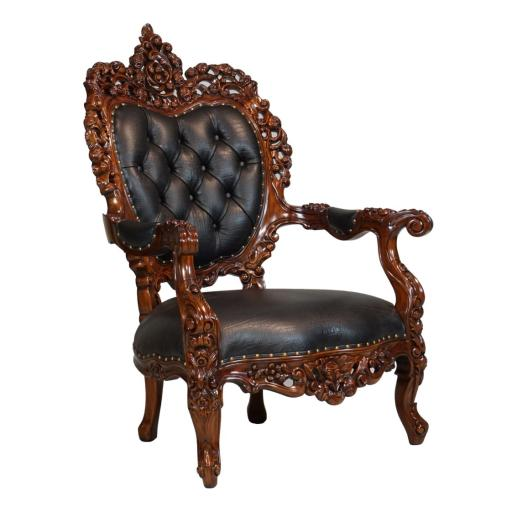chair: (82, 24, 432, 488)
